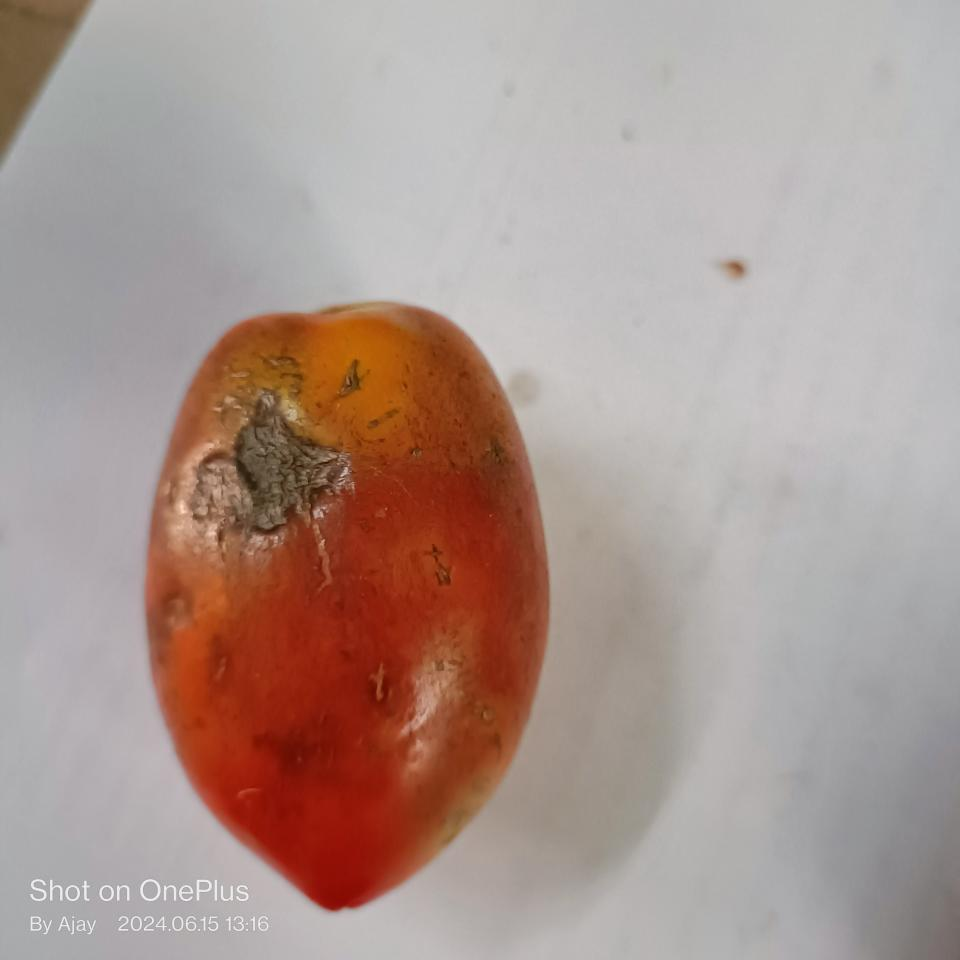Bacterial_Spot: (181, 389, 355, 539)
